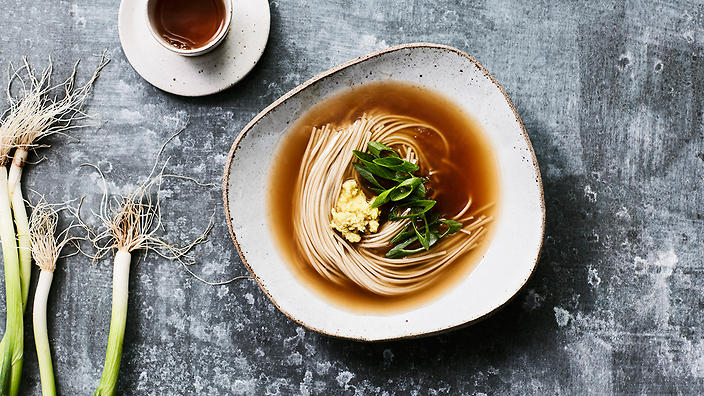Soba: (294, 109, 495, 308)
